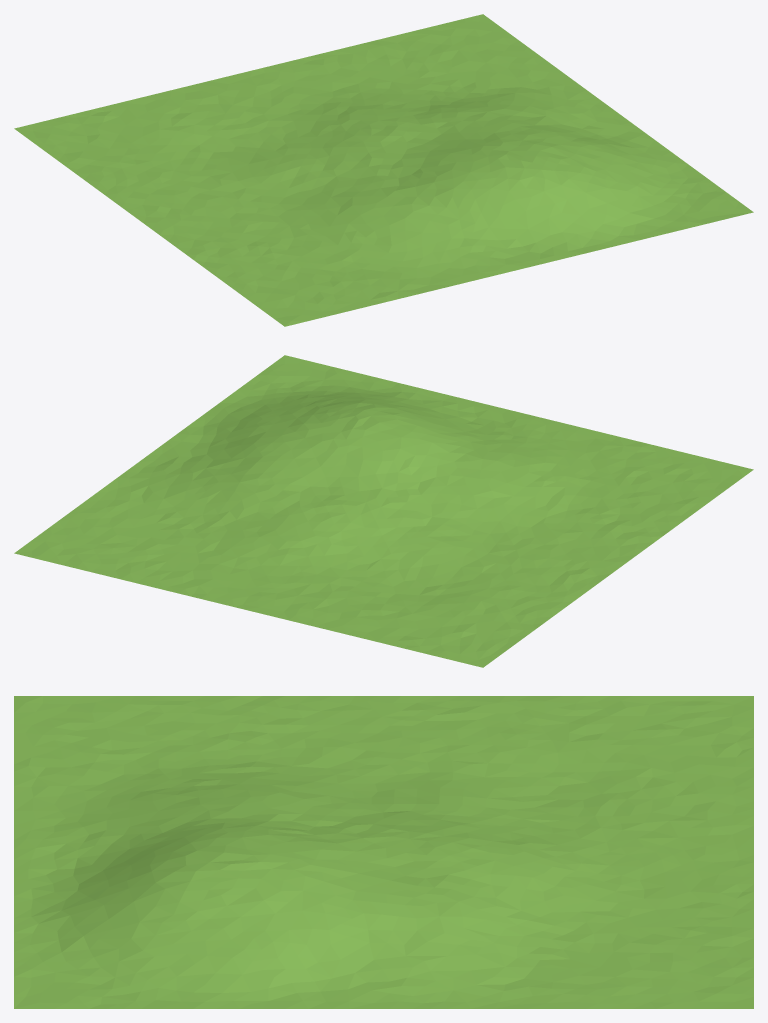
The model's file is MT_Terrain_L_a_06.fbx.
3 renders of one model, top to bottom at view 1: azimuth 30°, elevation 25°; view 2: azimuth 150°, elevation 25°; view 3: azimuth 270°, elevation 25°, orthographic. The views are drawn at different scales.
Visible parts, largest first — view 1: MT_Terrain_L_a_06; view 2: MT_Terrain_L_a_06; view 3: MT_Terrain_L_a_06.
Part boxes in pixels (box(x1,y1,x2,y2)): MT_Terrain_L_a_06: box(14, 14, 753, 326); MT_Terrain_L_a_06: box(14, 355, 753, 667); MT_Terrain_L_a_06: box(14, 696, 753, 1008).
Size of the model in its own units: 10000 by 693 by 10000.
